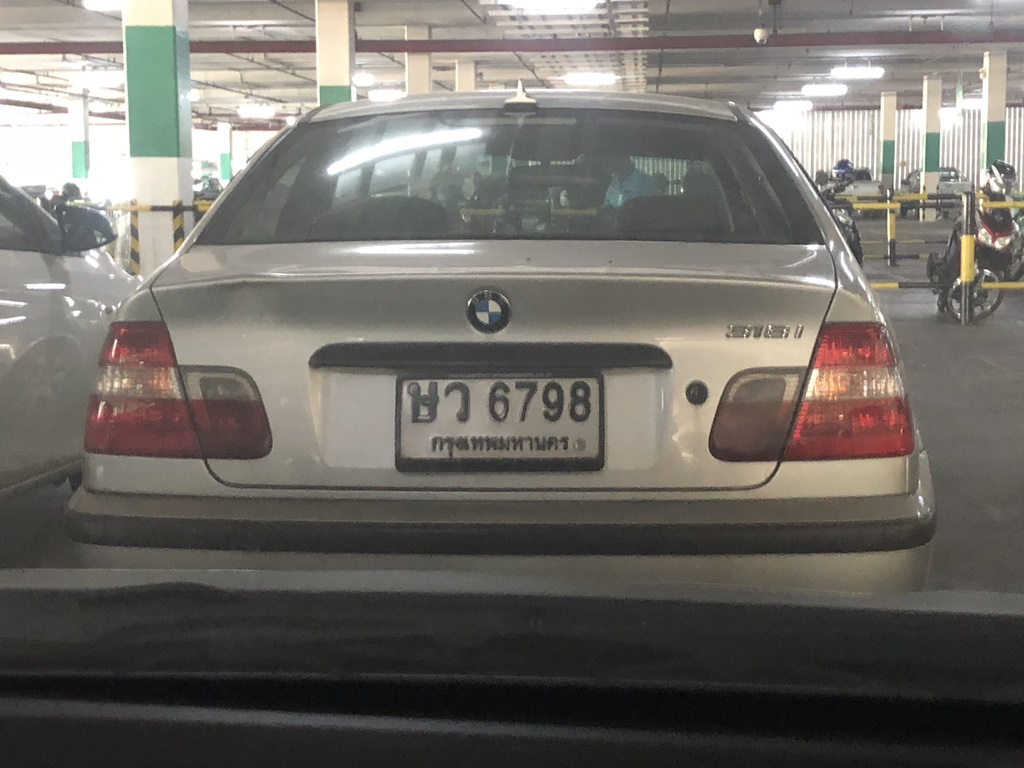eight: (563, 371, 598, 430)
nine: (527, 376, 568, 427)
seven: (509, 376, 540, 427)
six: (476, 381, 516, 426)
